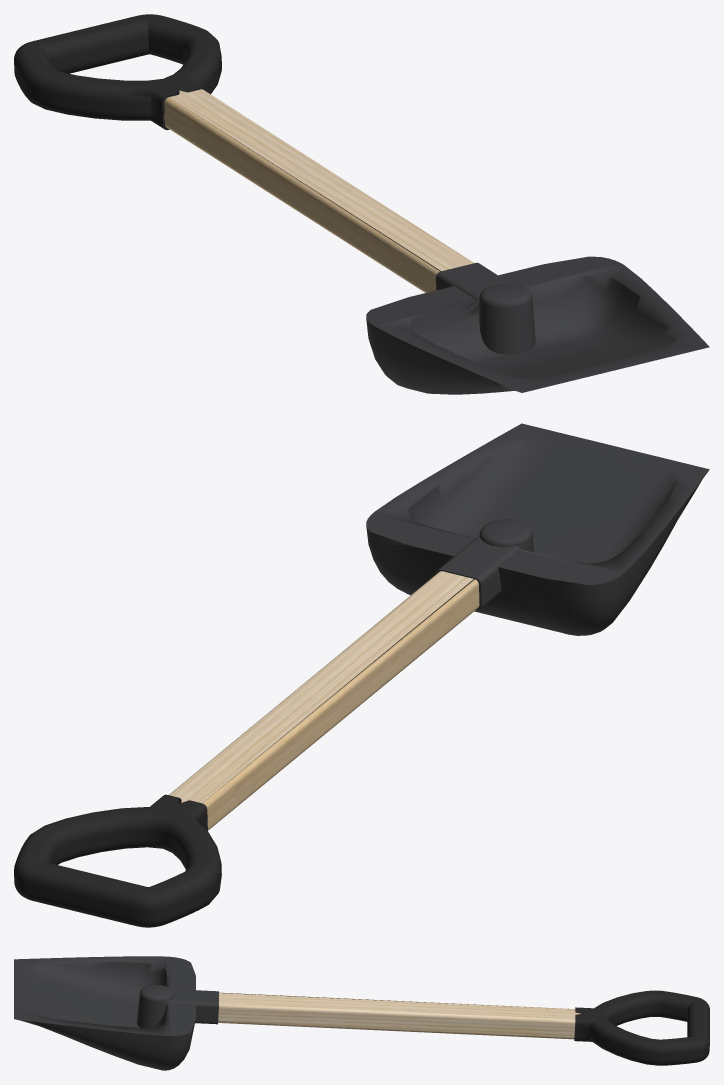
The model's file is xiaochanzi.FBX.
3 views of the same model, one above another, from view 1: azimuth 30°, elevation 25°; view 2: azimuth 150°, elevation 25°; view 3: azimuth 270°, elevation 25° (orthographic). The views are drawn at different scales.
Visible parts, largest first — view 1: Лопат; view 2: Лопат; view 3: Лопат.
Part boxes in pixels (x1,y1,x2,y2): Лопат: (14, 14, 709, 394); Лопат: (14, 423, 709, 927); Лопат: (14, 956, 709, 1070).
Size of the model in its own units: 2540 by 804 by 9398.
